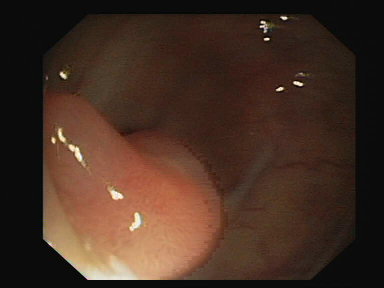polyp: (43, 76, 238, 275)
